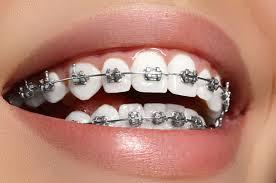Braces: (17, 66, 234, 129)
